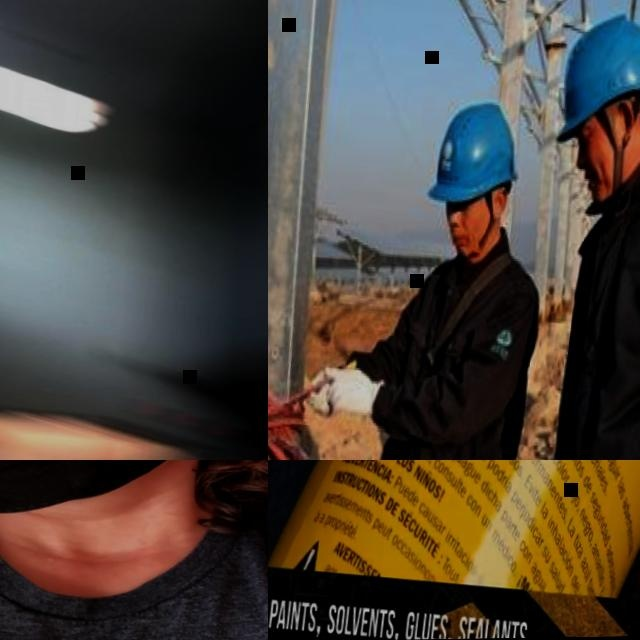Hardhat: (548, 13, 640, 152), (423, 96, 523, 210)
Mask: (0, 460, 221, 529)
NO-Mask: (585, 165, 626, 202), (451, 225, 484, 259)
NO-Safety Vest: (0, 461, 268, 640), (383, 262, 534, 460), (546, 177, 640, 460)
Person: (285, 83, 563, 460), (515, 14, 640, 460), (0, 460, 268, 640)
